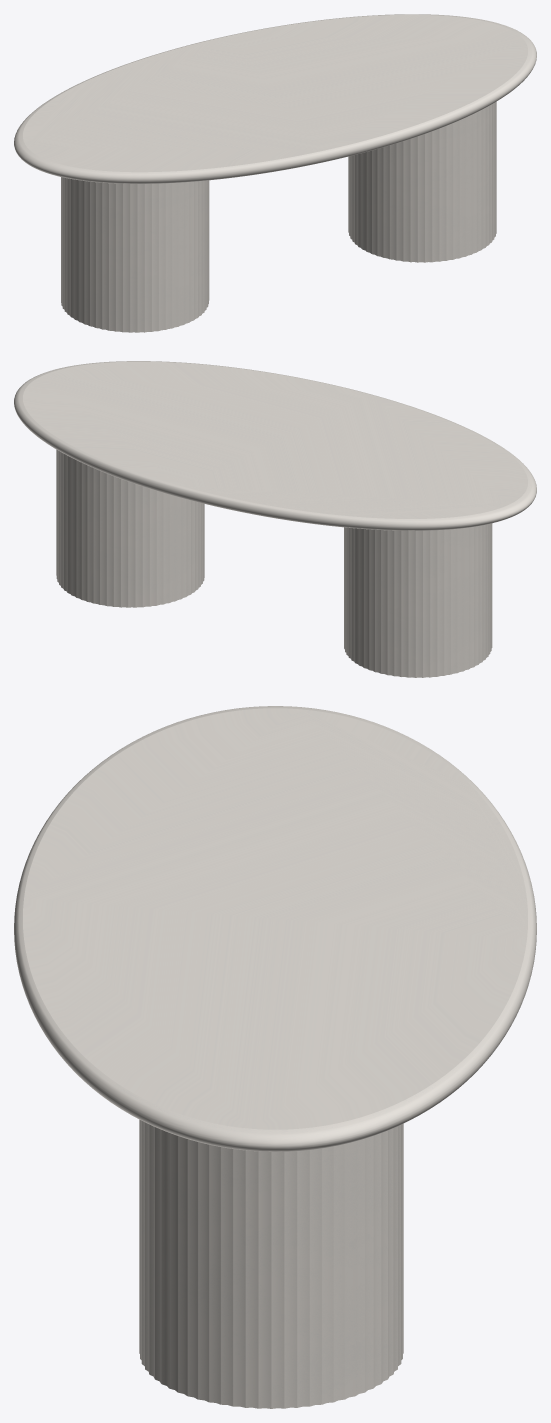
Rendered from pearlwhite_ellips_round_ripplesecond.glb.
The picture shows the model from 3 angles, top to bottom: view 1: azimuth 30°, elevation 25°; view 2: azimuth 150°, elevation 25°; view 3: azimuth 270°, elevation 25°; orthographic projection. The views are drawn at different scales.
Parts seen in each view (by area): view 1: tabletop_ellips_round.007, tableleg_ripplesecond.002; view 2: tabletop_ellips_round.007, tableleg_ripplesecond.002; view 3: tabletop_ellips_round.007, tableleg_ripplesecond.002.
Boxes of the visible parts, box(x1,y1,x2,y2) form: tabletop_ellips_round.007: box(14, 14, 536, 183); tableleg_ripplesecond.002: box(61, 101, 496, 332); tabletop_ellips_round.007: box(14, 361, 536, 530); tableleg_ripplesecond.002: box(56, 449, 492, 677); tabletop_ellips_round.007: box(14, 706, 536, 1151); tableleg_ripplesecond.002: box(139, 1119, 403, 1408).
Size of the model in its own units: 7.5 by 2.46 by 3.8.
1 material, 1 textured.
